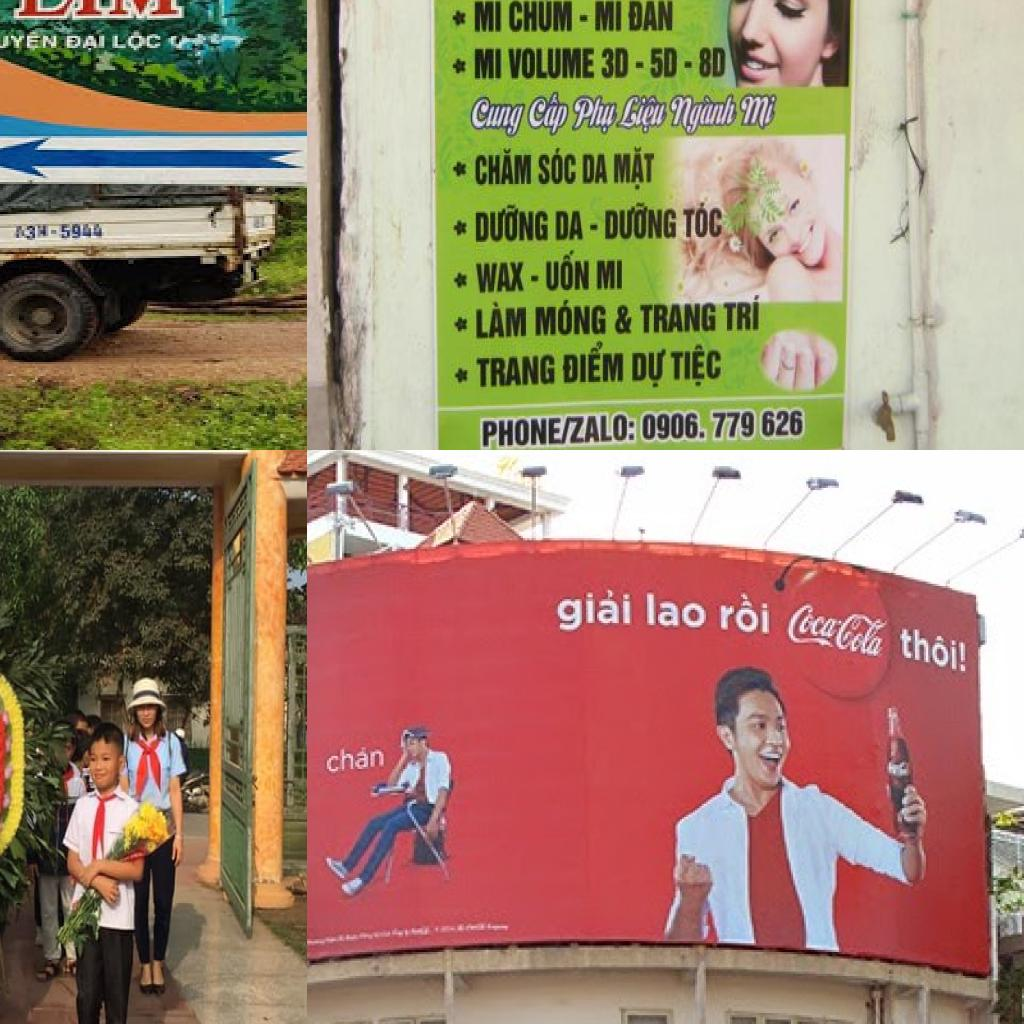text: (636, 402, 812, 448), (782, 601, 894, 660), (898, 623, 972, 680), (556, 584, 634, 636), (10, 0, 192, 22), (664, 88, 740, 138), (475, 349, 558, 394), (506, 42, 598, 82), (604, 201, 680, 246), (475, 203, 550, 247), (561, 338, 627, 388), (532, 298, 608, 340), (645, 586, 710, 634), (477, 414, 563, 450), (670, 339, 726, 394), (639, 300, 719, 338), (616, 90, 672, 140), (475, 146, 535, 191), (719, 588, 773, 638), (471, 94, 527, 140), (325, 740, 390, 778), (523, 90, 571, 140), (474, 300, 528, 343), (571, 90, 621, 136), (508, 0, 576, 33), (543, 249, 591, 295), (613, 143, 657, 193), (737, 88, 783, 134), (474, 259, 526, 297), (681, 199, 726, 242), (723, 291, 762, 336), (626, 0, 676, 35), (630, 344, 666, 392), (0, 30, 61, 58), (538, 146, 577, 188), (110, 30, 166, 54), (553, 206, 586, 246), (472, 42, 504, 82), (578, 148, 610, 188), (696, 44, 728, 82), (51, 222, 110, 242), (650, 44, 681, 82), (64, 32, 112, 56), (591, 0, 623, 35), (600, 46, 631, 82), (596, 258, 626, 294), (473, 0, 504, 33), (614, 300, 635, 338), (560, 411, 574, 449), (449, 155, 470, 179), (450, 268, 471, 292), (450, 214, 470, 238), (452, 6, 468, 30), (450, 56, 468, 77), (456, 366, 472, 388), (453, 316, 470, 334), (577, 12, 591, 27), (588, 222, 602, 234), (530, 273, 540, 286), (634, 60, 646, 70), (684, 60, 694, 72)
